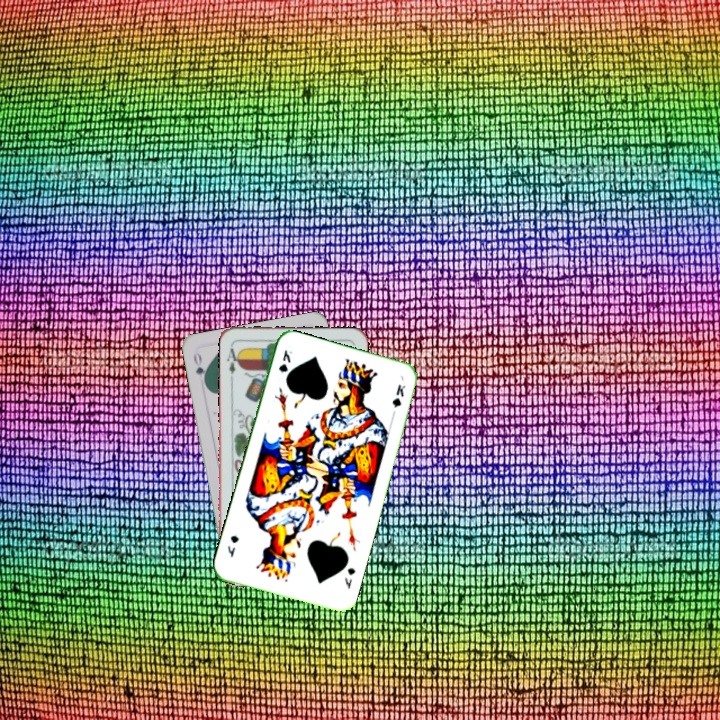EA: (222, 341, 242, 381)
GK: (275, 346, 295, 375), (340, 563, 358, 592)
GO: (189, 348, 209, 388)
